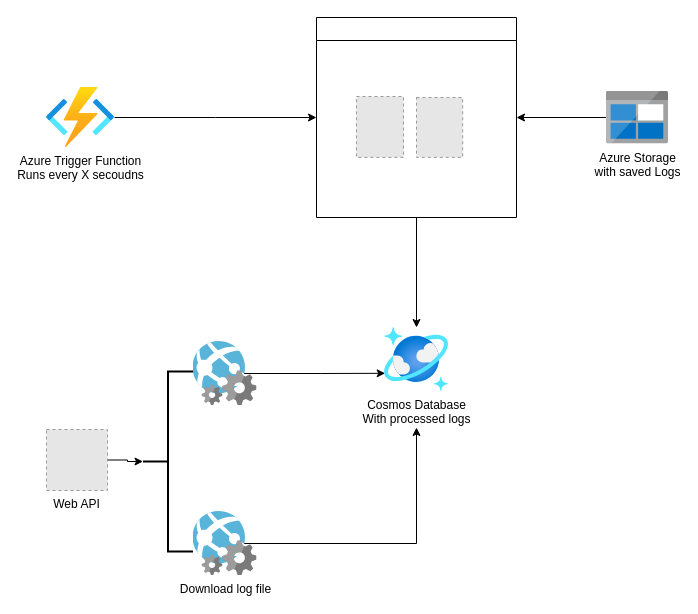
The diagram is 698 pixels wide and 614 high, and some of its shapes have lost their labels. Grey dashed boxes stand in for pictures. Here are the shapes that lost their labels. From the top down, the box of each, then its label:
(316, 16, 516, 218): Log Parsing and processing
(192, 341, 256, 405): Search
